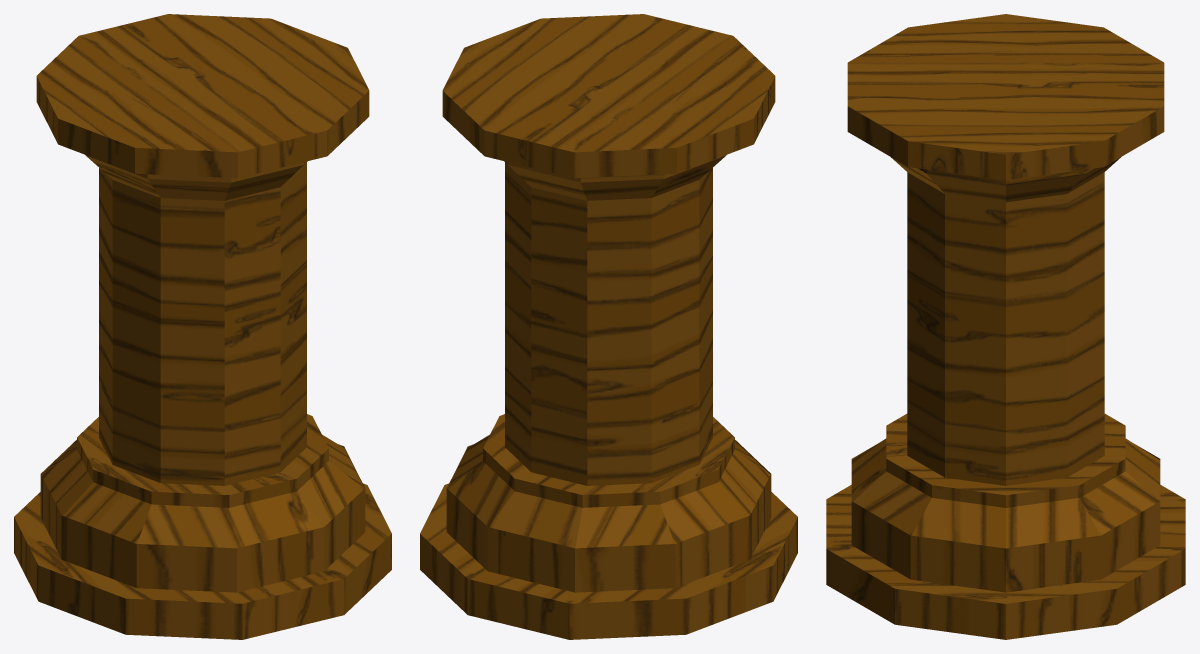
File: stand.fbx
3 renders of one model, left to right at view 1: azimuth 30°, elevation 25°; view 2: azimuth 150°, elevation 25°; view 3: azimuth 270°, elevation 25°, orthographic.
Visible parts, largest first — view 1: pasted__polySurface2; view 2: pasted__polySurface2; view 3: pasted__polySurface2.
Part boxes in pixels (x1,y1,x2,y2): pasted__polySurface2: [14, 14, 391, 639]; pasted__polySurface2: [420, 14, 797, 639]; pasted__polySurface2: [826, 14, 1185, 639].
Size of the model in its own units: 3 by 4.17 by 2.86.
Materials: 1 (1 with a texture image).
